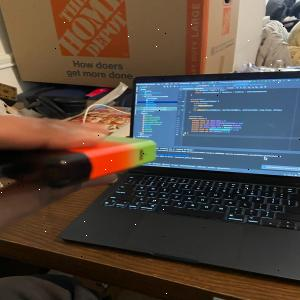Swift-E-Ciggirate: (0, 129, 159, 204)
